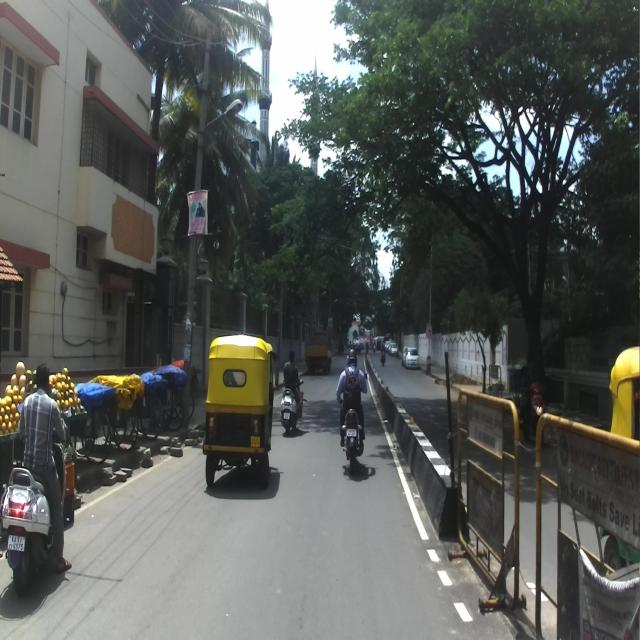autorickshaw: (202, 332, 278, 489)
scooter: (0, 404, 74, 592), (278, 374, 304, 434)
